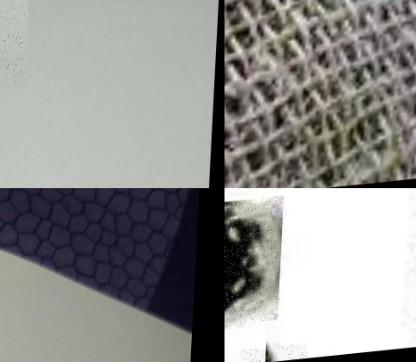ironball: (224, 199, 286, 334), (0, 0, 29, 99), (241, 347, 310, 361)
